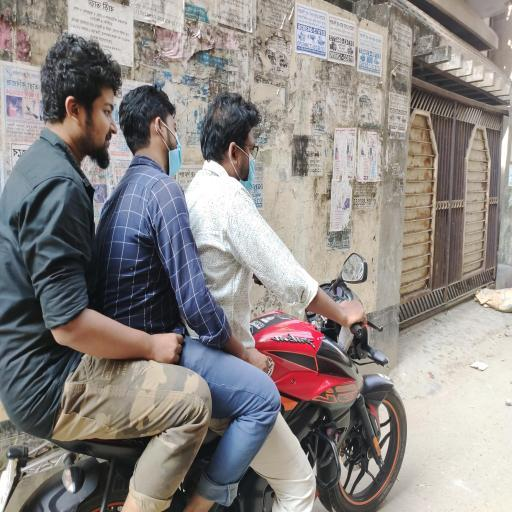no helmet: (184, 76, 268, 193)
triple riding: (0, 28, 454, 512)
